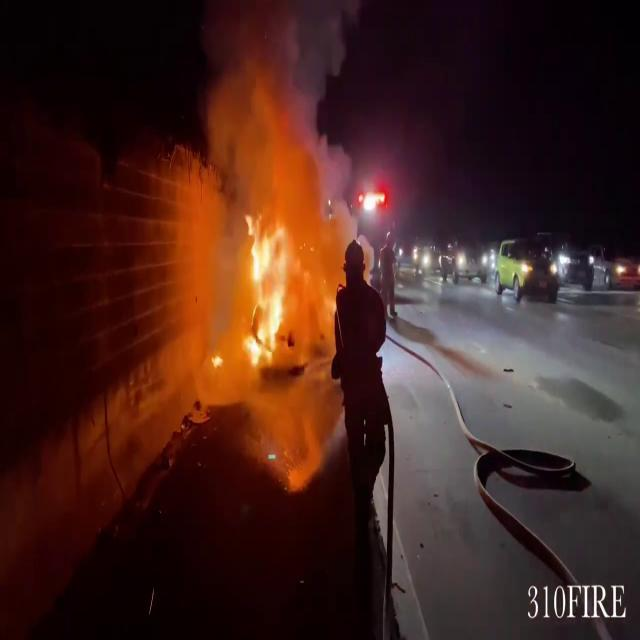Fire: (235, 210, 295, 372)
Smoke: (192, 1, 348, 192)
